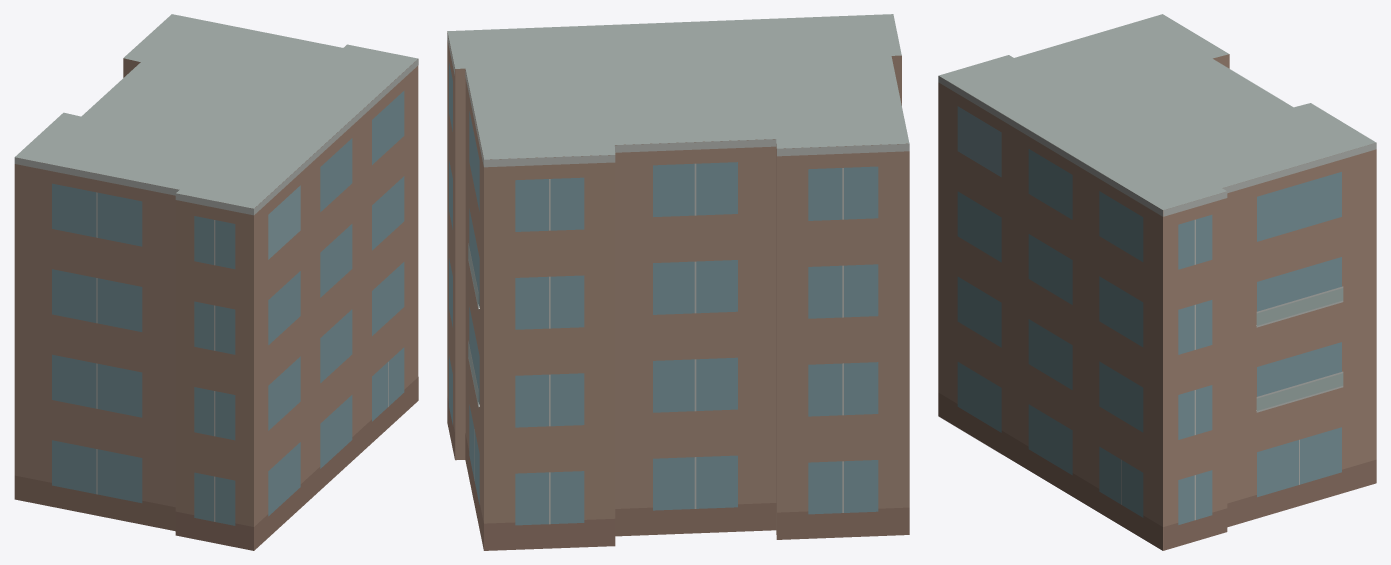
The model's file is survey-upis-32932149.glb.
3 renders of one model, left to right at view 1: azimuth 30°, elevation 25°; view 2: azimuth 150°, elevation 25°; view 3: azimuth 270°, elevation 25°, orthographic. The views are drawn at different scales.
Visible parts, largest first — view 1: survey-upis-32932149.tmp; view 2: survey-upis-32932149.tmp; view 3: survey-upis-32932149.tmp.
Part boxes in pixels (x1,y1,x2,y2): survey-upis-32932149.tmp: [14, 14, 418, 550]; survey-upis-32932149.tmp: [447, 14, 909, 550]; survey-upis-32932149.tmp: [938, 14, 1376, 550].
Bounding box in the file's own units: 15.45 × 12.5 × 14.58.
